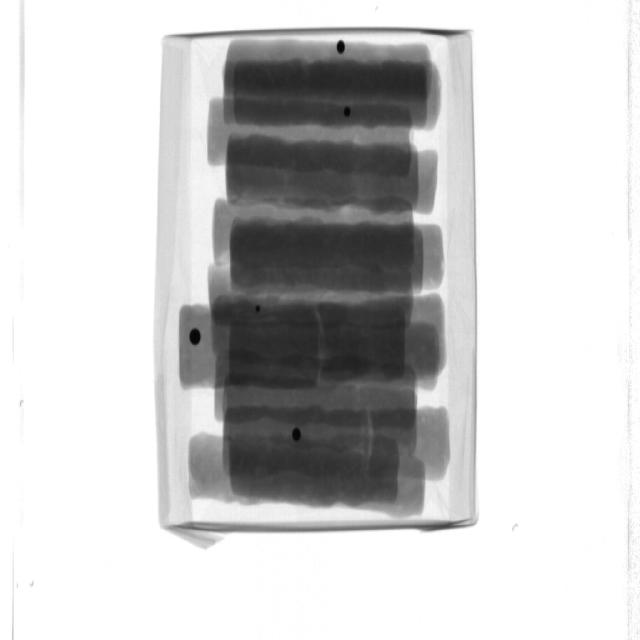ym: (188, 328, 201, 345), (293, 428, 302, 442), (339, 41, 347, 55), (345, 108, 353, 117), (255, 307, 261, 314)
